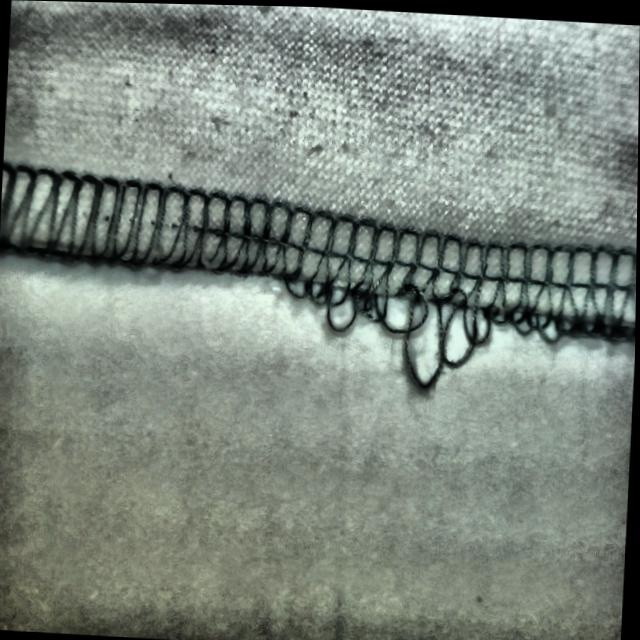Stitch: (270, 192, 610, 409)
